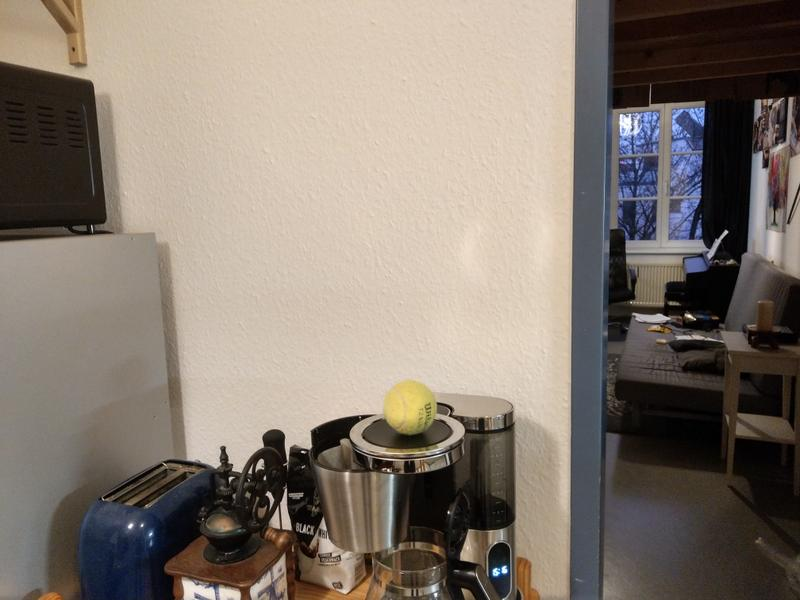Tennisball: (381, 375, 438, 441)
